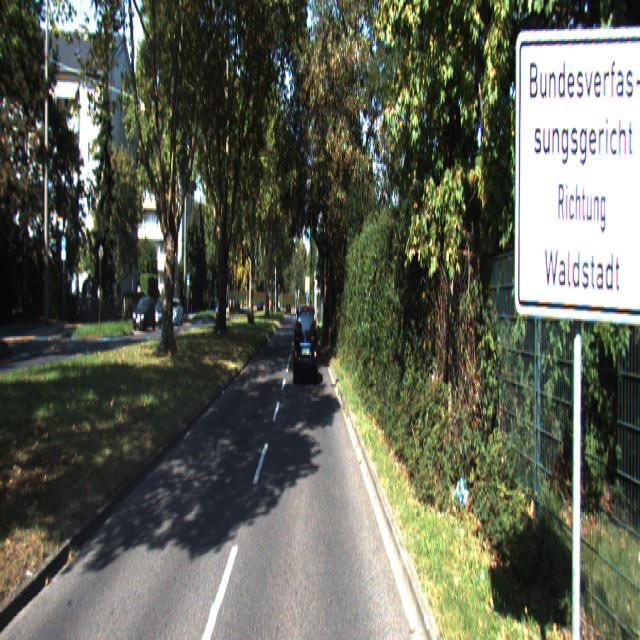Car: (293, 303, 319, 385), (132, 297, 156, 332), (152, 296, 172, 330)
DontCare: (170, 295, 183, 329)
